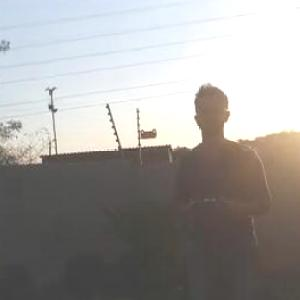follow: (175, 74, 280, 299)
